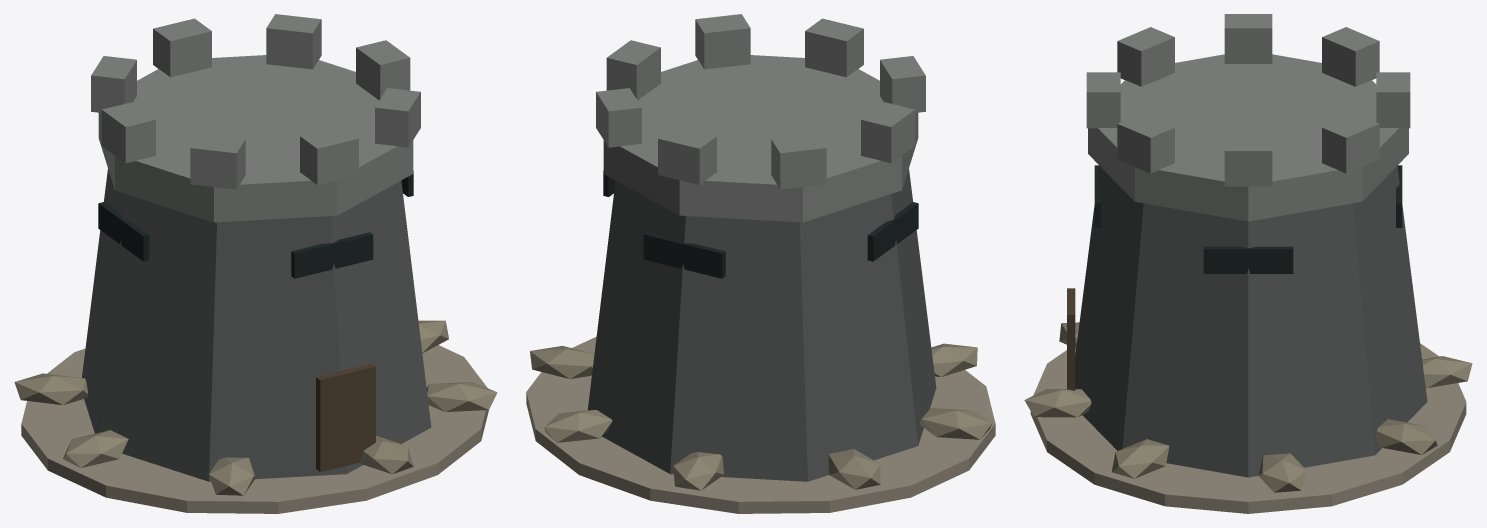
Rendered from railway-pillbox.glb.
3 renders of one model, left to right at view 1: azimuth 30°, elevation 25°; view 2: azimuth 150°, elevation 25°; view 3: azimuth 270°, elevation 25°, orthographic.
Visible parts, largest first — view 1: TH_Pillbox_Body, TH_Pillbox_ConcreteCap, TH_Pillbox_Ground, TH_Pillbox_Door, TH_Pillbox_Parapet_0, TH_Pillbox_Parapet_4, TH_Pillbox_Parapet_7, TH_Pillbox_Parapet_3, TH_Pillbox_Parapet_6, TH_Pillbox_Parapet_2, TH_Pillbox_Parapet_1, TH_Pillbox_FiringSlit_0 (+8 smaller); view 2: TH_Pillbox_Body, TH_Pillbox_ConcreteCap, TH_Pillbox_Ground, TH_Pillbox_Parapet_4, TH_Pillbox_Parapet_0, TH_Pillbox_Parapet_5, TH_Pillbox_Parapet_1, TH_Pillbox_Parapet_6, TH_Pillbox_Parapet_2, TH_Pillbox_Parapet_3, TH_Pillbox_FiringSlit_2, TH_Pillbox_Parapet_7 (+7 smaller); view 3: TH_Pillbox_Body, TH_Pillbox_ConcreteCap, TH_Pillbox_Ground, TH_Pillbox_Parapet_1, TH_Pillbox_Parapet_3, TH_Pillbox_Parapet_5, TH_Pillbox_Parapet_7, TH_Pillbox_FiringSlit_1, TH_Pillbox_Parapet_2, TH_Pillbox_Parapet_6, TH_Pillbox_Parapet_0, TH_Pillbox_Parapet_4 (+6 smaller).
Part boxes in pixels (<box>): TH_Pillbox_Body: <box>82,169,431,481</box>; TH_Pillbox_ConcreteCap: <box>98,55,413,222</box>; TH_Pillbox_Ground: <box>21,345,488,513</box>; TH_Pillbox_Door: <box>316,363,375,471</box>; TH_Pillbox_Parapet_0: <box>300,126,358,184</box>; TH_Pillbox_Parapet_4: <box>153,18,211,77</box>; TH_Pillbox_Parapet_7: <box>190,134,245,189</box>; TH_Pillbox_Parapet_3: <box>266,14,321,69</box>; TH_Pillbox_Parapet_6: <box>101,102,155,163</box>; TH_Pillbox_Parapet_2: <box>356,40,410,100</box>; TH_Pillbox_Parapet_1: <box>375,88,420,147</box>; TH_Pillbox_FiringSlit_0: <box>291,232,373,278</box>; TH_Pillbox_Body: <box>587,169,936,481</box>; TH_Pillbox_ConcreteCap: <box>603,55,918,222</box>; TH_Pillbox_Ground: <box>526,336,995,513</box>; TH_Pillbox_Parapet_4: <box>658,126,716,184</box>; TH_Pillbox_Parapet_0: <box>805,18,863,77</box>; TH_Pillbox_Parapet_5: <box>771,134,826,189</box>; TH_Pillbox_Parapet_1: <box>695,14,750,69</box>; TH_Pillbox_Parapet_6: <box>861,102,915,163</box>; TH_Pillbox_Parapet_2: <box>606,40,660,100</box>; TH_Pillbox_Parapet_3: <box>596,88,641,147</box>; TH_Pillbox_FiringSlit_2: <box>643,232,725,278</box>; TH_Pillbox_Parapet_7: <box>880,56,925,112</box>; TH_Pillbox_Body: <box>1075,166,1427,477</box>; TH_Pillbox_ConcreteCap: <box>1088,54,1408,221</box>; TH_Pillbox_Ground: <box>1030,343,1466,513</box>; TH_Pillbox_Parapet_1: <box>1117,113,1174,173</box>; TH_Pillbox_Parapet_3: <box>1322,113,1379,173</box>; TH_Pillbox_Parapet_5: <box>1322,27,1379,86</box>; TH_Pillbox_Parapet_7: <box>1117,27,1174,86</box>; TH_Pillbox_FiringSlit_1: <box>1203,246,1293,273</box>; TH_Pillbox_Parapet_2: <box>1224,136,1272,186</box>; TH_Pillbox_Parapet_6: <box>1224,14,1272,63</box>; TH_Pillbox_Parapet_0: <box>1086,72,1120,128</box>; TH_Pillbox_Parapet_4: <box>1376,72,1410,128</box>.
Bounding box in the file's own units: 0.9101 × 0.6945 × 0.851.
